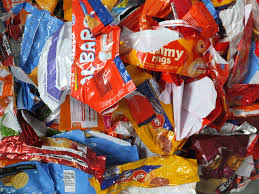plastic: (1, 1, 259, 191)
wrapper: (1, 1, 258, 191), (38, 1, 136, 116), (119, 1, 220, 82), (68, 1, 133, 117), (1, 127, 107, 186), (13, 5, 66, 116), (121, 20, 214, 77), (38, 17, 80, 115), (124, 77, 176, 155), (95, 151, 202, 187), (1, 63, 52, 138), (3, 160, 103, 194), (215, 1, 254, 86), (175, 74, 226, 133), (201, 83, 259, 130), (211, 135, 255, 190)
